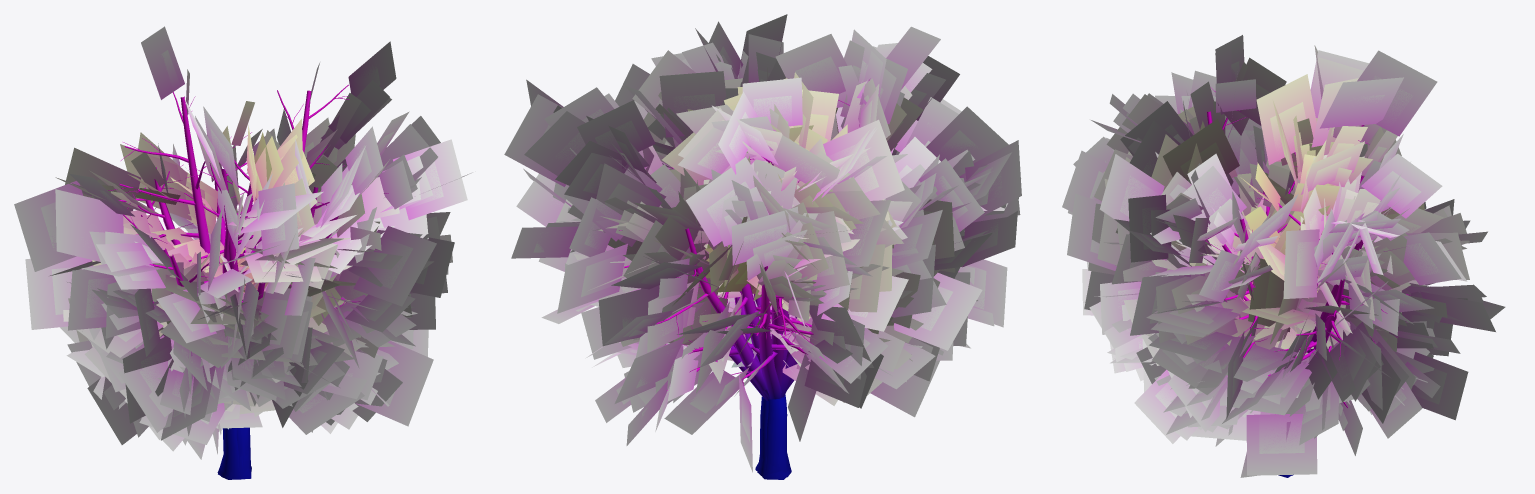
The model's file is keyaki.glb.
The picture shows the model from 3 angles, left to right: view 1: azimuth 30°, elevation 25°; view 2: azimuth 150°, elevation 25°; view 3: azimuth 270°, elevation 25°; orthographic projection. The views are drawn at different scales.
Parts seen in each view (by area): view 1: v0_lod1_leaf, v2_lod1_leaf, v1_lod1_leaf, v2_lod0_leaf, v0_lod0_leaf, v1_lod0_leaf, v2_lod0_bark, v2_lod1_bark, v1_lod0_bark, v0_lod0_bark; view 2: v2_lod1_leaf, v0_lod1_leaf, v1_lod1_leaf, v0_lod0_leaf, v2_lod0_leaf, v1_lod0_leaf, v0_lod0_bark, v1_lod0_bark, v2_lod0_bark, v1_lod1_bark, v0_lod1_bark; view 3: v2_lod1_leaf, v0_lod1_leaf, v2_lod0_leaf, v1_lod1_leaf, v0_lod0_leaf, v1_lod0_leaf, v0_lod0_bark, v2_lod0_bark.
Boxes of the visible parts, box(x1,y1,x2,y2) form: v0_lod1_leaf: box(14, 109, 454, 451); v2_lod1_leaf: box(66, 26, 472, 424); v1_lod1_leaf: box(25, 130, 447, 459); v2_lod0_leaf: box(102, 50, 443, 380); v0_lod0_leaf: box(41, 128, 431, 422); v1_lod0_leaf: box(51, 143, 411, 413); v2_lod0_bark: box(108, 84, 388, 479); v2_lod1_bark: box(181, 90, 338, 474); v1_lod0_bark: box(123, 164, 329, 479); v0_lod0_bark: box(119, 162, 344, 479); v2_lod1_leaf: box(504, 14, 959, 393); v0_lod1_leaf: box(511, 71, 1021, 472); v1_lod1_leaf: box(592, 52, 982, 445); v0_lod0_leaf: box(533, 94, 1001, 442); v2_lod0_leaf: box(543, 46, 934, 370); v1_lod0_leaf: box(636, 117, 952, 416); v0_lod0_bark: box(656, 167, 811, 475); v1_lod0_bark: box(667, 266, 813, 477); v2_lod0_bark: box(619, 100, 859, 476); v1_lod1_bark: box(740, 266, 792, 479); v0_lod1_bark: box(687, 228, 794, 478); v2_lod1_leaf: box(1067, 35, 1469, 445); v0_lod1_leaf: box(1062, 70, 1505, 455); v2_lod0_leaf: box(1090, 61, 1439, 424); v1_lod1_leaf: box(1114, 101, 1468, 477); v0_lod0_leaf: box(1090, 95, 1467, 430); v1_lod0_leaf: box(1138, 124, 1446, 453); v0_lod0_bark: box(1205, 175, 1410, 477); v2_lod0_bark: box(1205, 88, 1369, 477).
Size of the model in its own units: 14.89 by 14.12 by 14.37.
